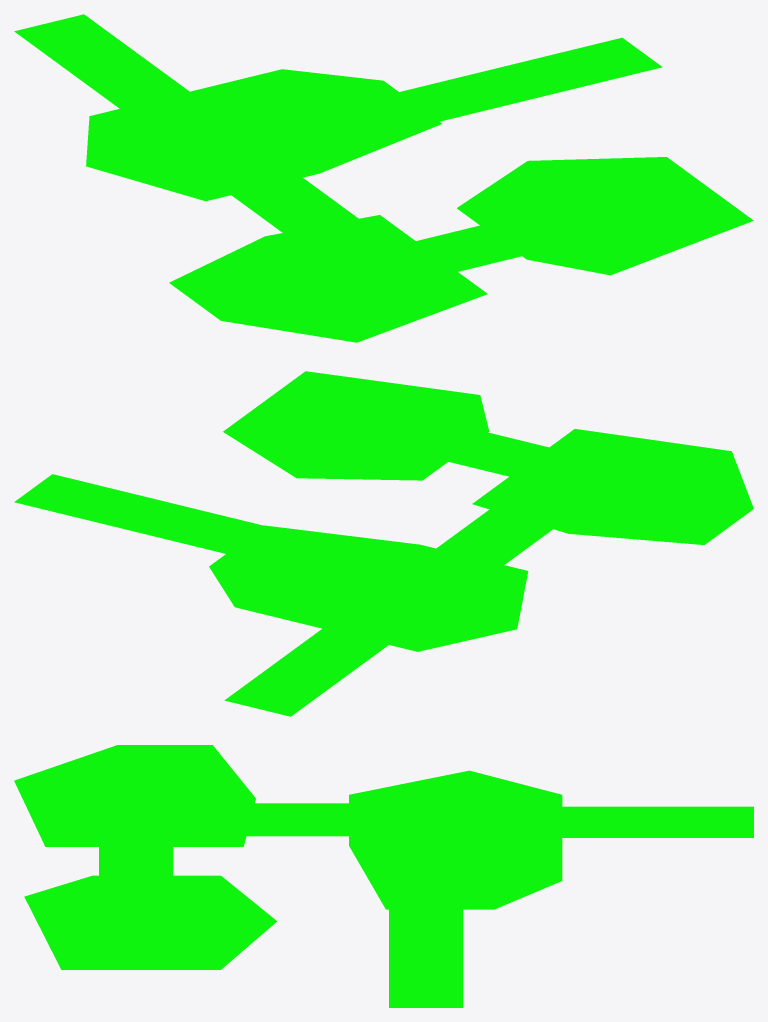
Rendered from s03a_lc1-floor.glb.
3 views of the same model, one above another, from view 1: azimuth 30°, elevation 25°; view 2: azimuth 150°, elevation 25°; view 3: azimuth 270°, elevation 25° (orthographic). The views are drawn at different scales.
Visible parts, largest first — view 1: collision_floor-colonly; view 2: collision_floor-colonly; view 3: collision_floor-colonly.
Part boxes in pixels (x1,y1,x2,y2): collision_floor-colonly: [14, 14, 753, 342]; collision_floor-colonly: [14, 371, 753, 716]; collision_floor-colonly: [14, 745, 753, 1007].
Size of the model in its own units: 50.5 by 0.1992 by 59.82.
